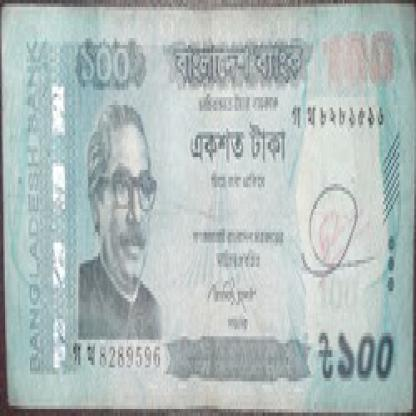one hundred taka: (321, 28, 401, 94), (334, 319, 398, 392), (73, 31, 143, 87)
